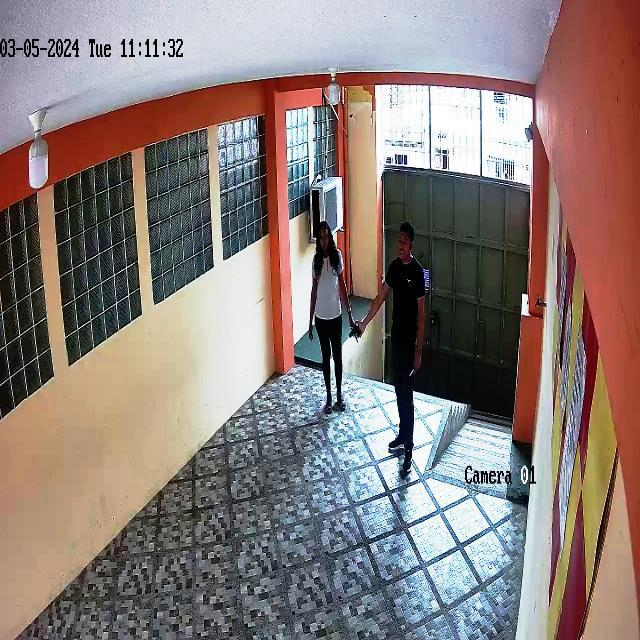Gun: (341, 315, 370, 351)
Knife: (396, 357, 432, 388)
